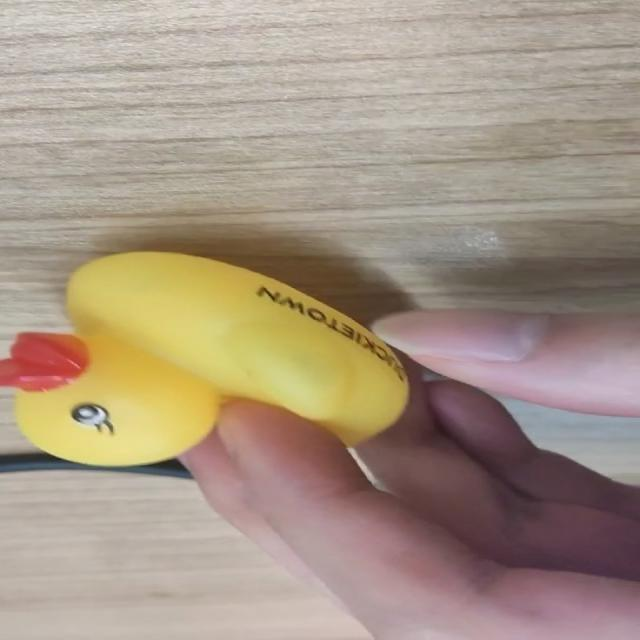rubber-duck: (0, 251, 406, 464)
